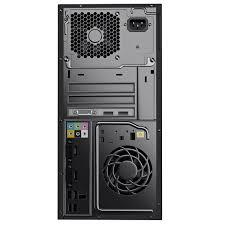pc: (56, 0, 166, 225)
